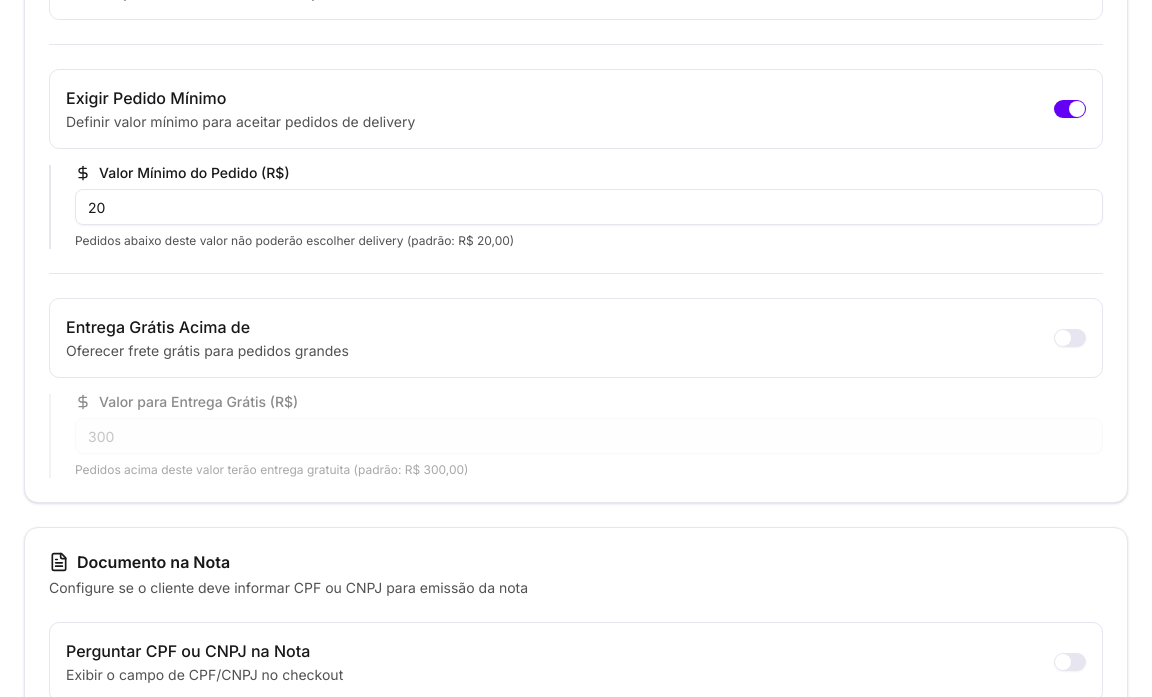
Test case: DeliverySettingsPage - Configurações de Delivery e Retirada › should show free delivery value when enabled
(page scrolled)
Note: Habilitar entrega grátis
Click the switch named "Entrega Grátis Acima de" in the row of "Entrega Grátis Acima de".
click(1070, 338)  # box top-left (1054, 329), bottom-right (1086, 347)
(page scrolled)
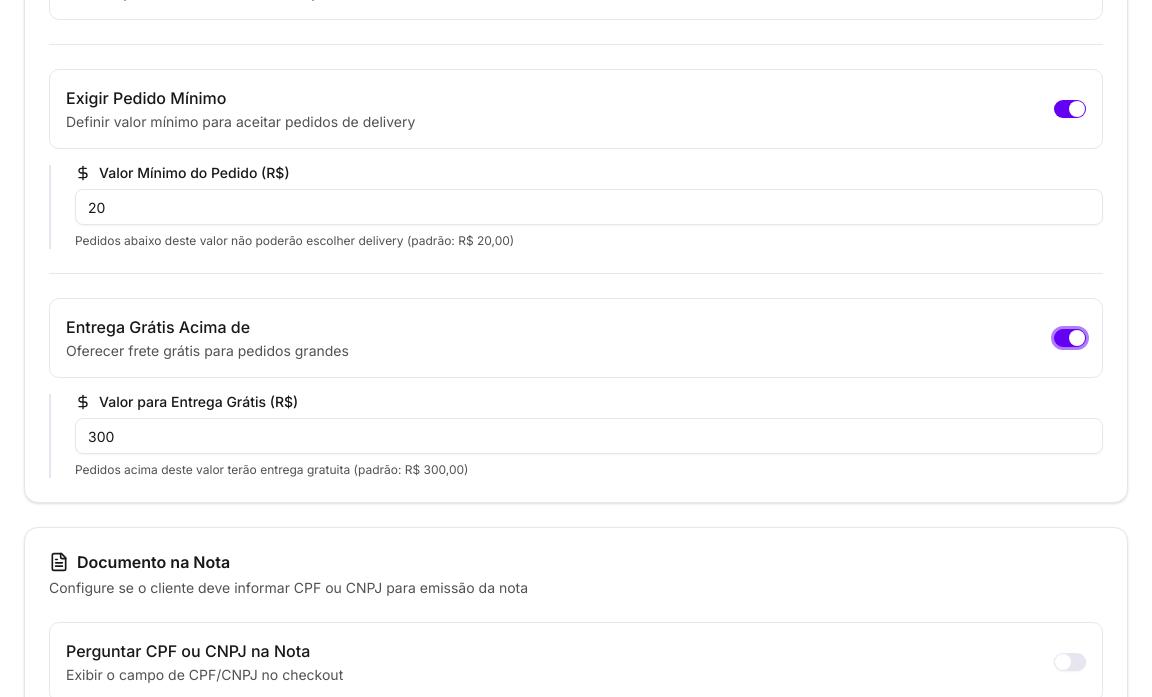
Expected: the number field labelled "Valor para Entrega Grátis (R$)" is enabled, top-left (75, 418), bottom-right (1103, 454)
